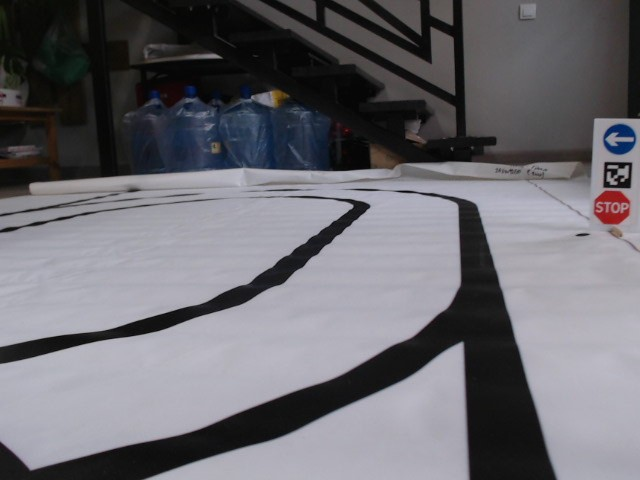Stop: (593, 189, 631, 226)
